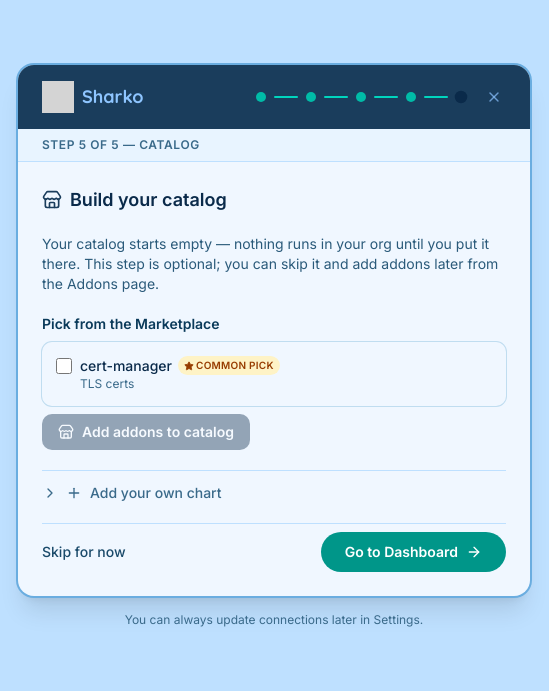
Scenario: FirstRunWizard step 5 — Catalog (v4 wave 2.5) › says "PR opened" (not "added") when the batch PR has not merged yet
Click the checkbox with test id "wizard-catalog-pick-cert-manager": (64, 366) [56,358,72,374]
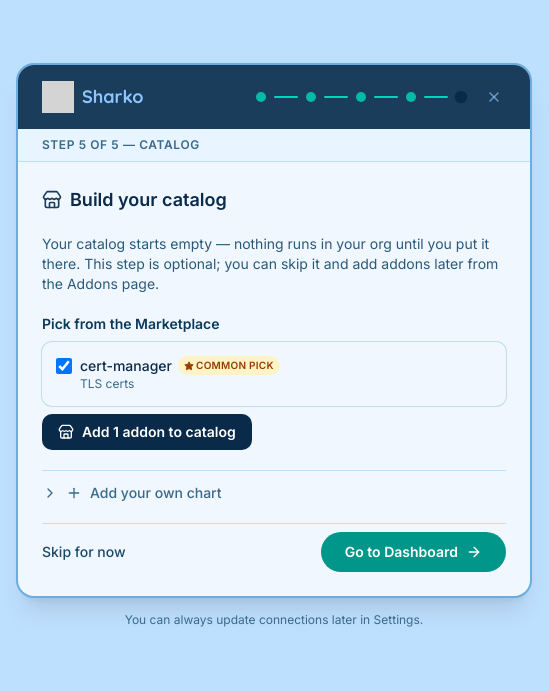
Click the button "Add 1 addon to catalog": (147, 432) [42,414,252,450]
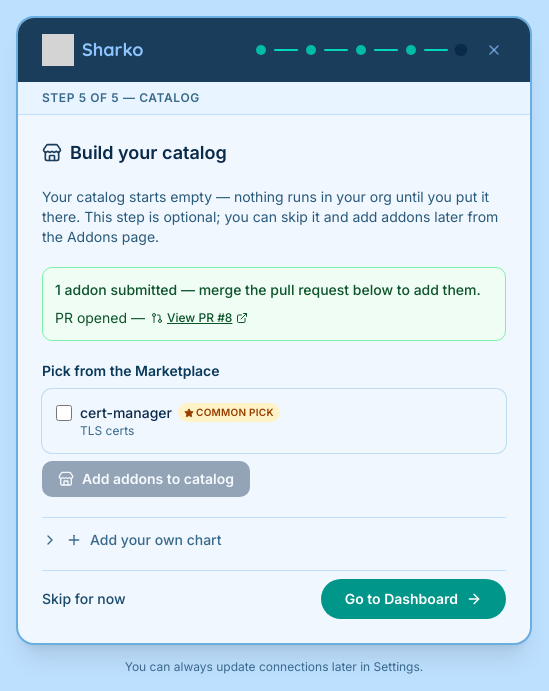
Now the text "1 addon submitted — merge the pull request below" is shown, box [55,280,493,300]
Now the text "PR opened —" is shown, box [55,308,145,328]
